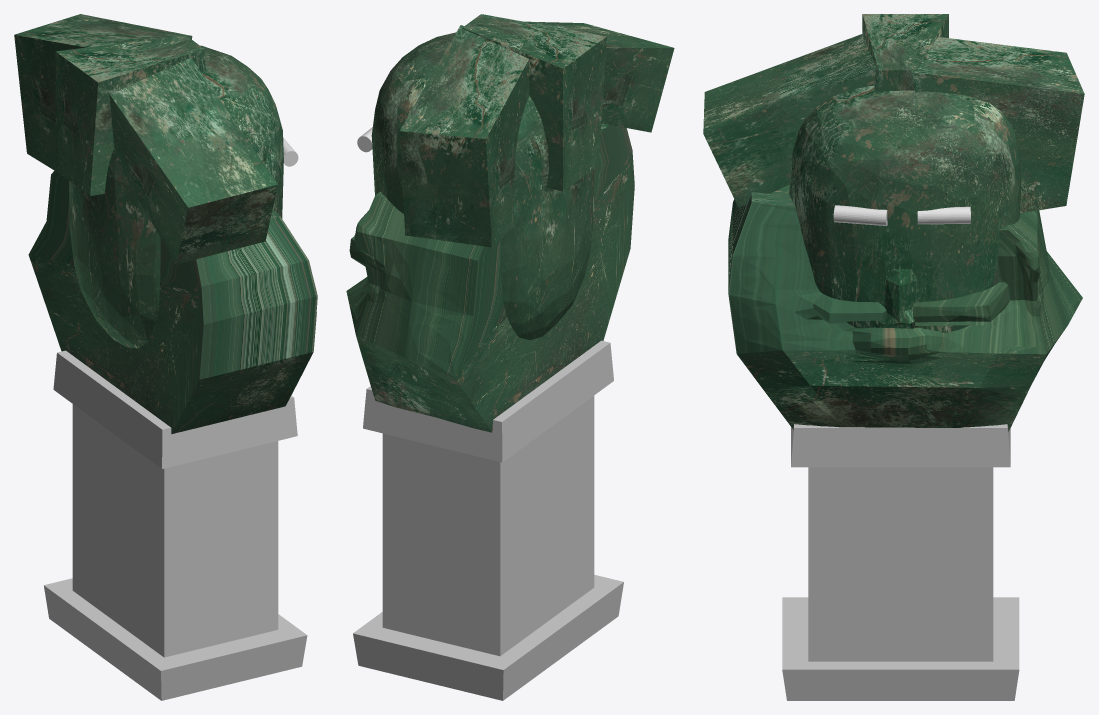
File: Karl.fbx
3 renders of one model, left to right at view 1: azimuth 30°, elevation 25°; view 2: azimuth 150°, elevation 25°; view 3: azimuth 270°, elevation 25°, orthographic. The views are drawn at different scales.
Visible parts, largest first — view 1: Cube.006, Cube.003, Cube.002, Cube, Cube.005, Cube.004; view 2: Cube.006, Cube.003, Cube.004, Cube, Cube.005, Cube.002; view 3: Cube.006, Cube.003, Cube, Cube.004, Cube.002, Cube.005, Cylinder, Cylinder.001.
Boxes of the visible parts, <box> form: Cube.006: <box>44,350,307,700</box>; Cube.003: <box>28,170,317,434</box>; Cube.002: <box>109,58,277,264</box>; Cube: <box>69,45,283,348</box>; Cube.005: <box>55,35,205,196</box>; Cube.004: <box>14,14,192,171</box>; Cube.006: <box>353,340,623,700</box>; Cube.003: <box>346,123,634,432</box>; Cube.004: <box>399,25,529,247</box>; Cube: <box>371,32,594,339</box>; Cube.005: <box>462,14,606,191</box>; Cube.002: <box>525,21,674,132</box>; Cube.006: <box>782,424,1019,700</box>; Cube.003: <box>728,184,1082,431</box>; Cube: <box>789,85,1020,333</box>; Cube.004: <box>911,37,1084,213</box>; Cube.002: <box>703,34,876,207</box>; Cube.005: <box>862,14,948,92</box>; Cylinder: <box>833,205,887,225</box>; Cylinder.001: <box>917,206,970,224</box>.
Bounding box in the file's own units: 346 × 1000 × 571.
